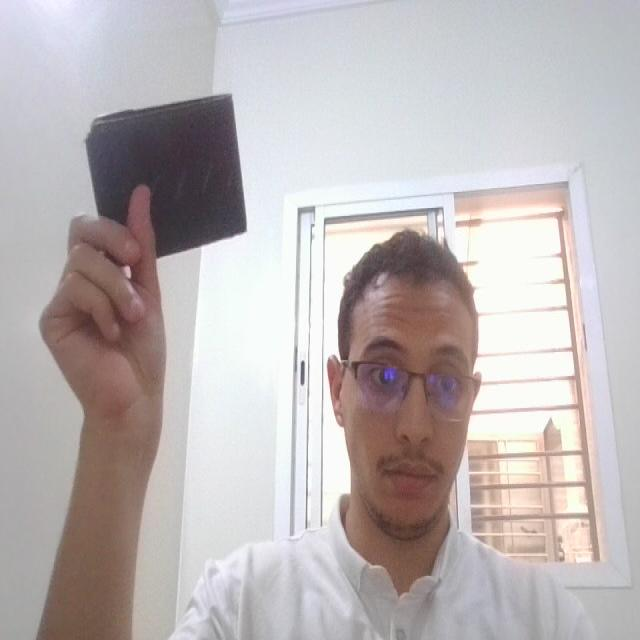wallet: (75, 89, 272, 272)
